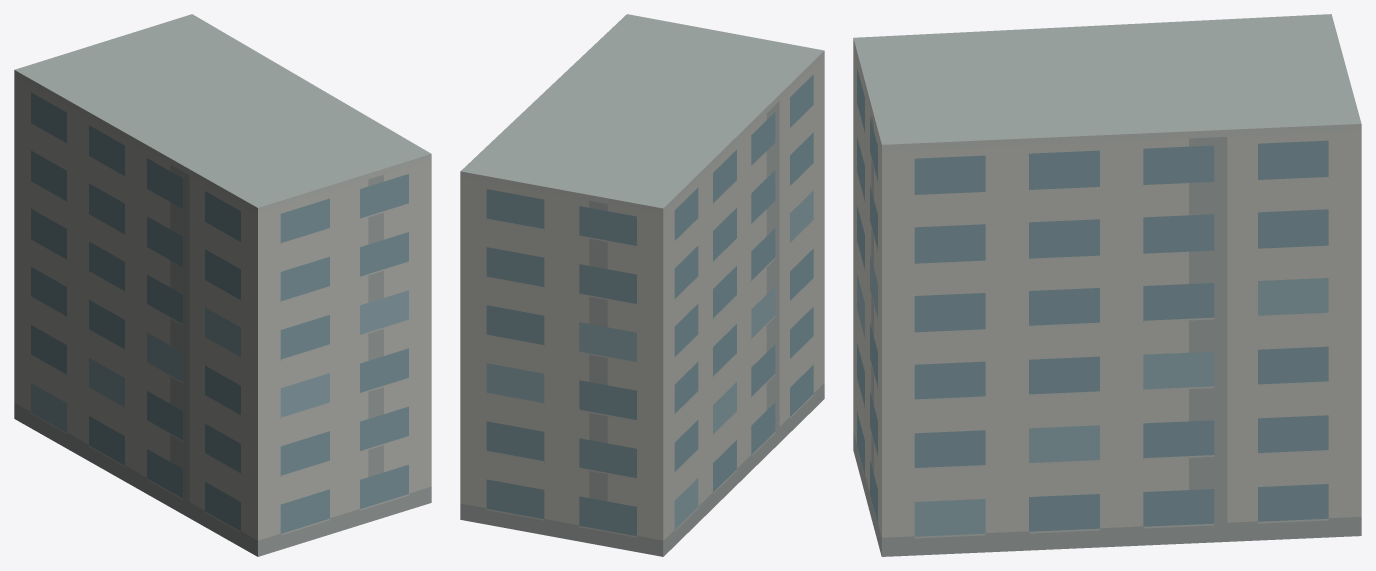
The model's file is survey-upis-32887505.glb.
3 views of the same model, side by side, from view 1: azimuth 30°, elevation 25°; view 2: azimuth 150°, elevation 25°; view 3: azimuth 270°, elevation 25° (orthographic). The views are drawn at different scales.
Parts seen in each view (by area): view 1: survey-upis-32887505.tmp; view 2: survey-upis-32887505.tmp; view 3: survey-upis-32887505.tmp.
Boxes of the visible parts, x1,y1,x2,y2 form: survey-upis-32887505.tmp: (14, 14, 431, 556); survey-upis-32887505.tmp: (460, 14, 824, 556); survey-upis-32887505.tmp: (853, 14, 1361, 556).
Size of the model in its own units: 9.68 by 14.2 by 15.88.
